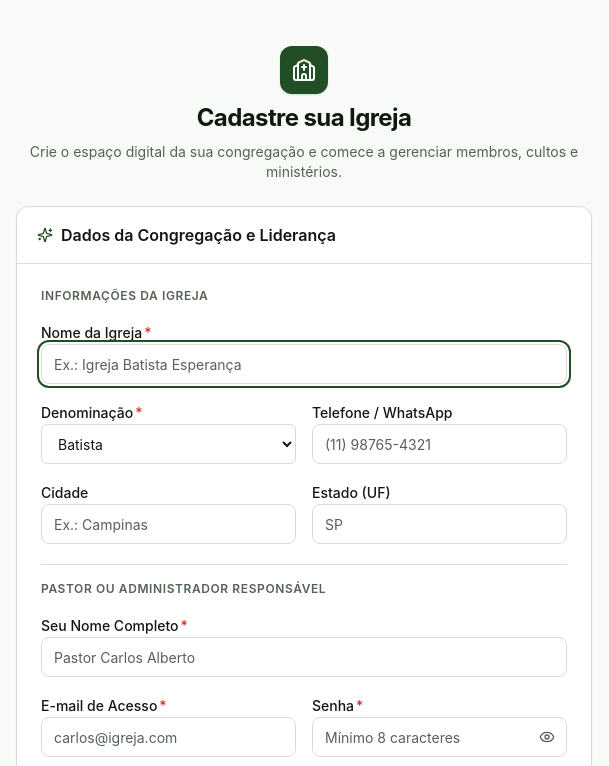
RegisterChurchPage › exibe erro amigável se o e-mail já estiver em uso (409 Conflict)
Type "Igreja Batista Nova Vida" into the field labelled "Nome da Igreja*" at (304, 364), box [41,344,567,384]
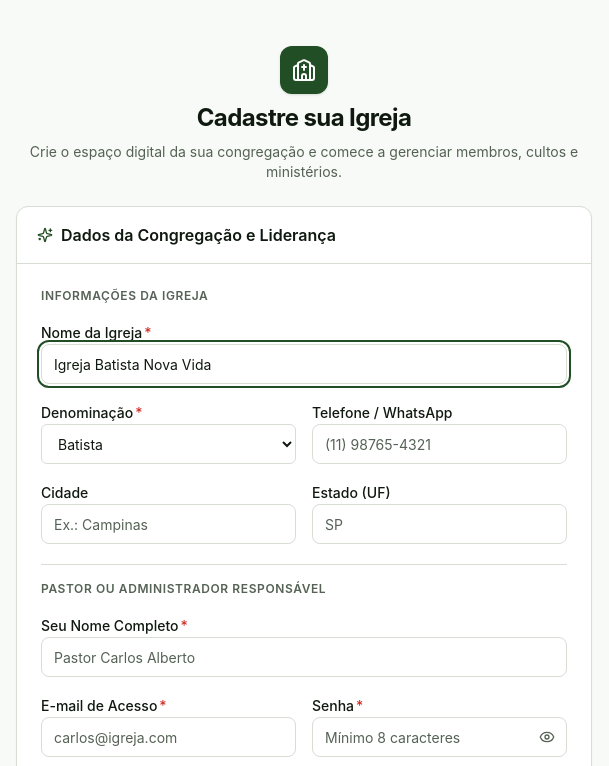
Type "Pastor Samuel Silva" into the field labelled "Seu Nome Completo*" at (304, 657), box [41,637,567,677]
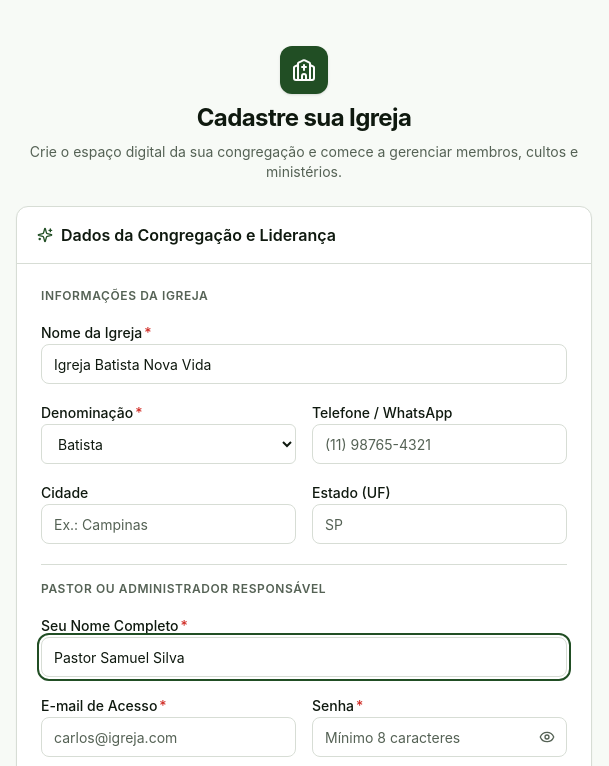
Type "samuel@batista.com" into the field labelled "E-mail de Acesso*" at (168, 737), box [41,717,296,757]
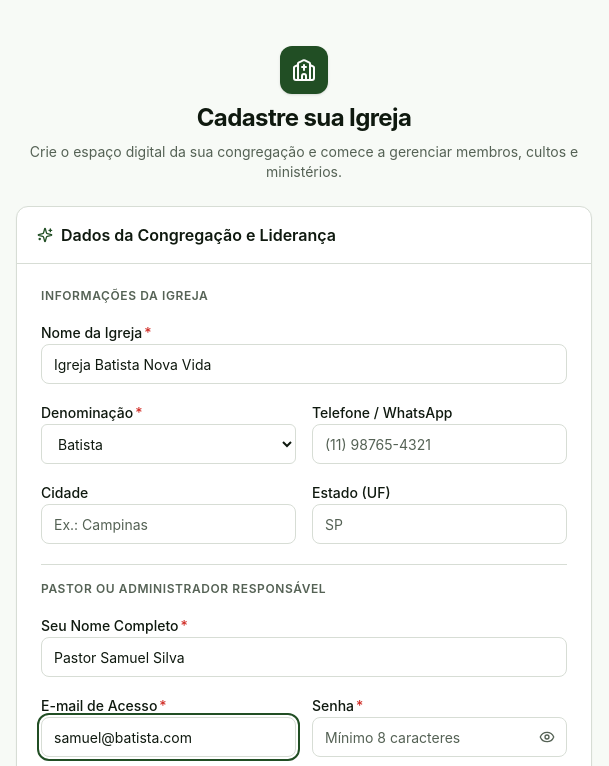
Type "senhaForte123" into the password field labelled "Senha*" at (440, 737), box [312,717,567,757]
(page scrolled)
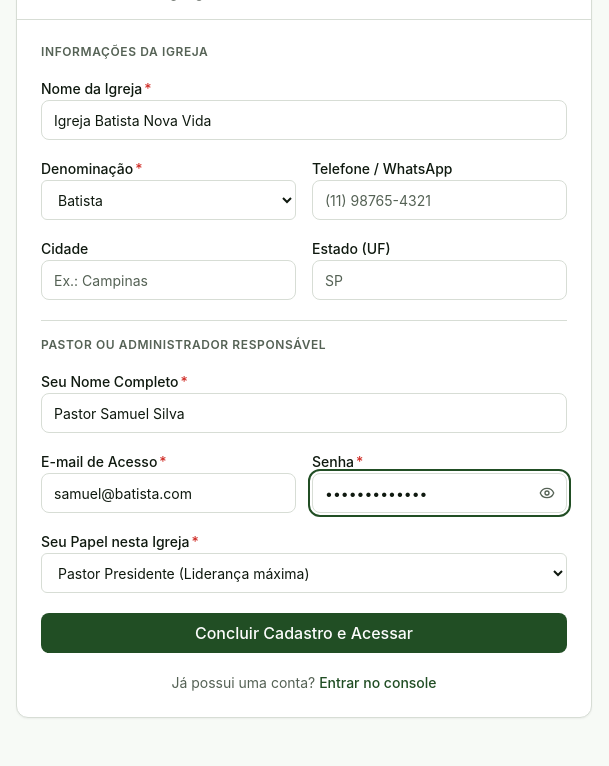
Click the button "Concluir Cadastro e Acessar" at (304, 633), box [41,613,567,653]
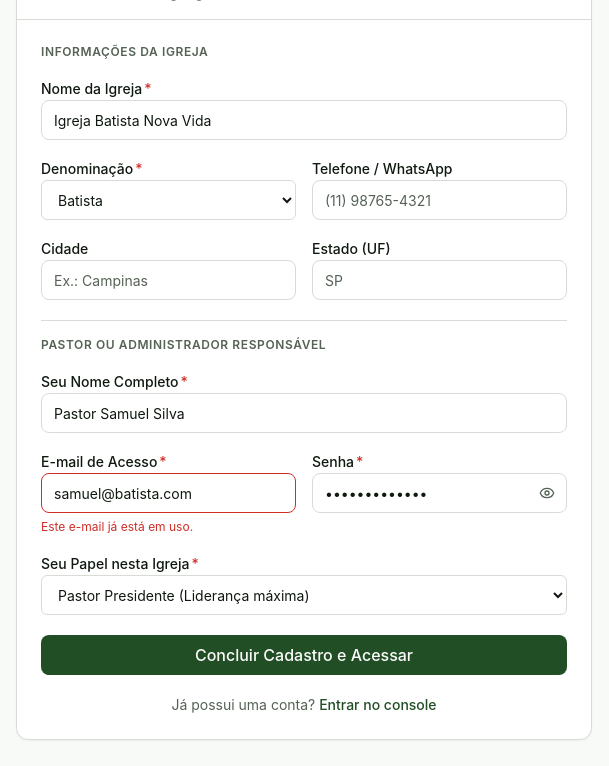
Now the text "Este e-mail já está em uso." is shown, box [41,519,193,534]
